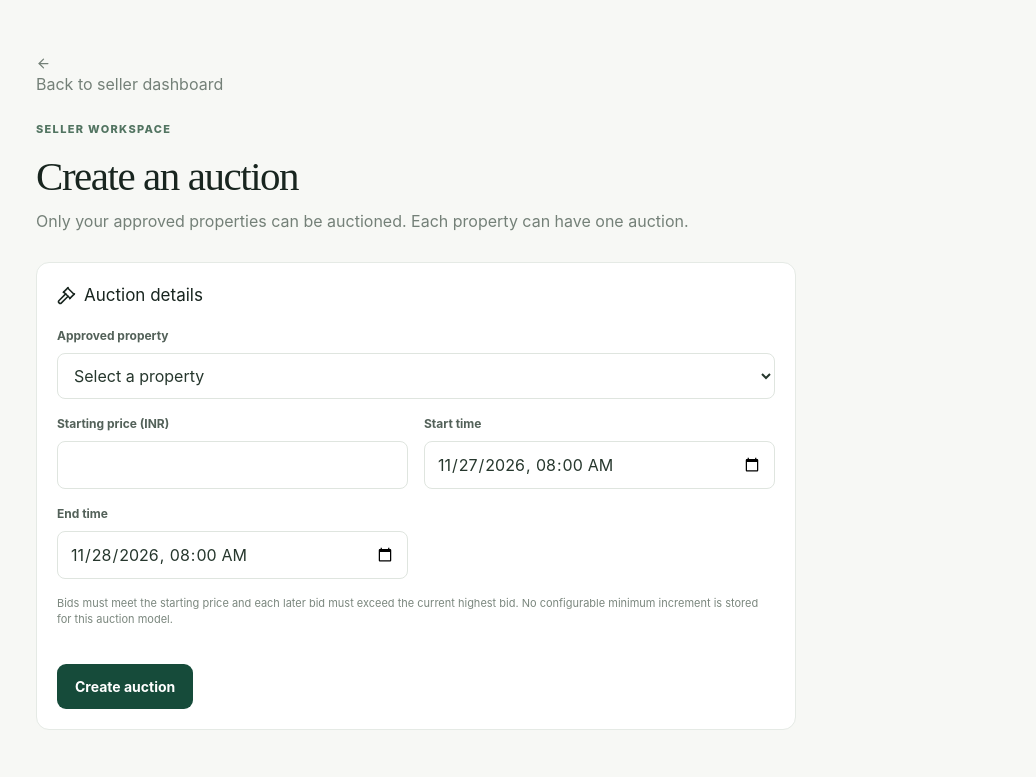
SellerAuctionPage › offers only approved seller properties and creates an auction through the API
Select "Property approved-1 — Bengaluru" in the dropdown labelled "Approved property": {"x": 416, "y": 376} [57,353,775,399]
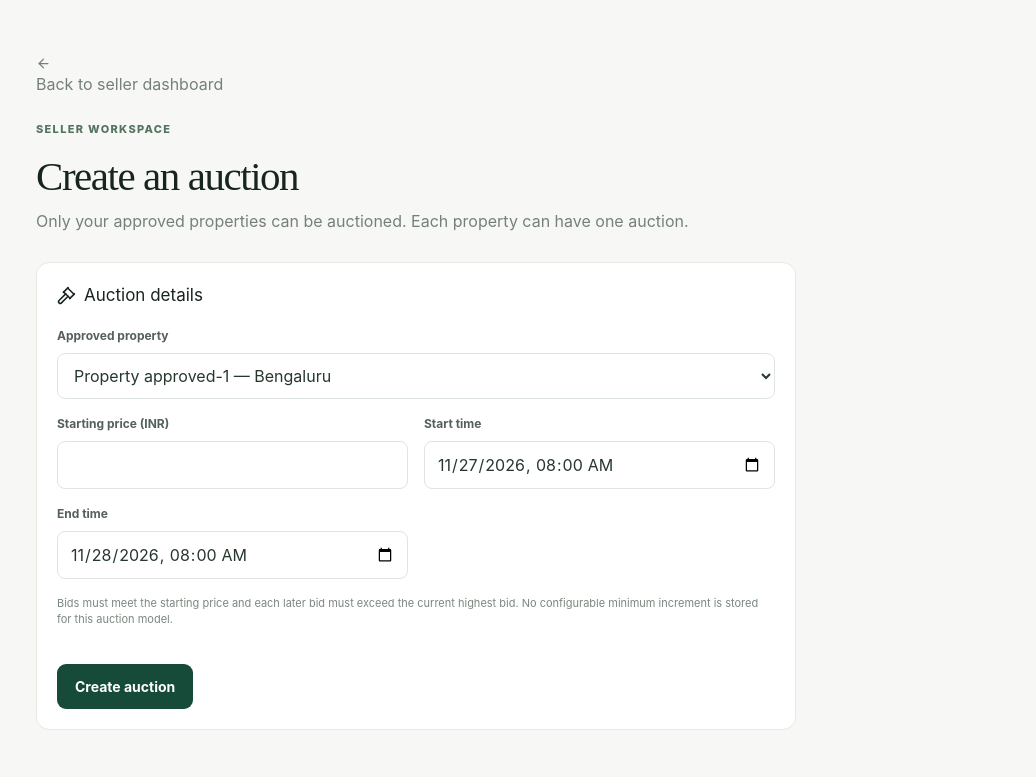
In the number field labelled "Starting price (INR)": {"x": 232, "y": 465} [57,441,408,489], type "100000"
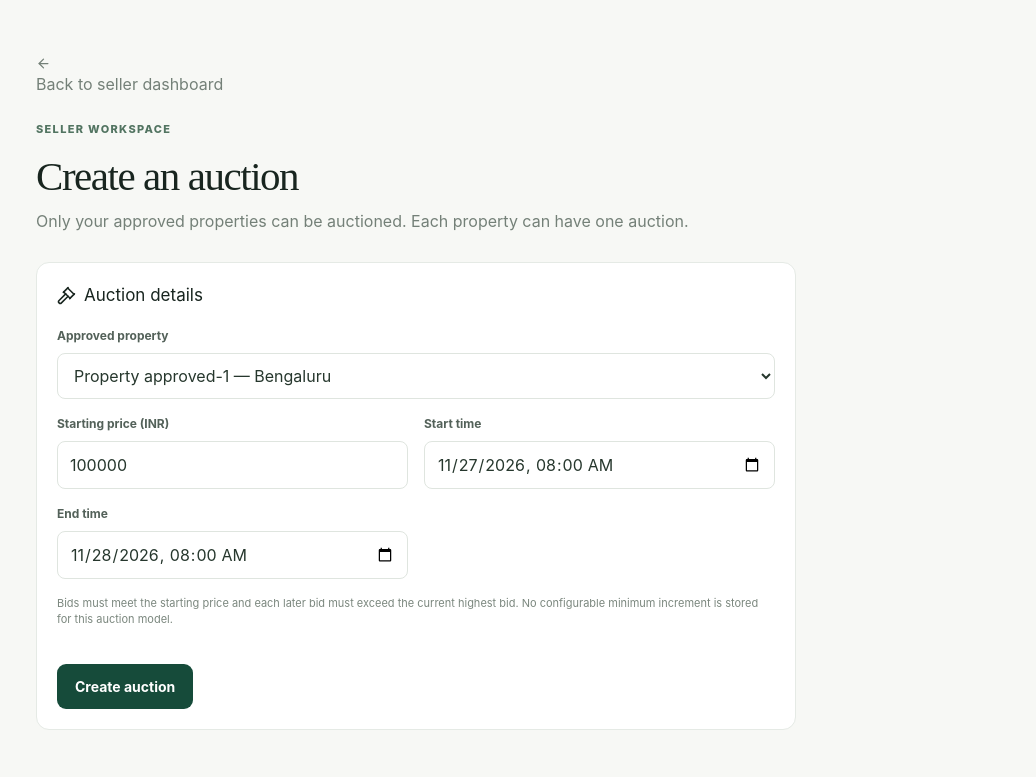
Click the button "Create auction": {"x": 125, "y": 686} [57,664,193,709]
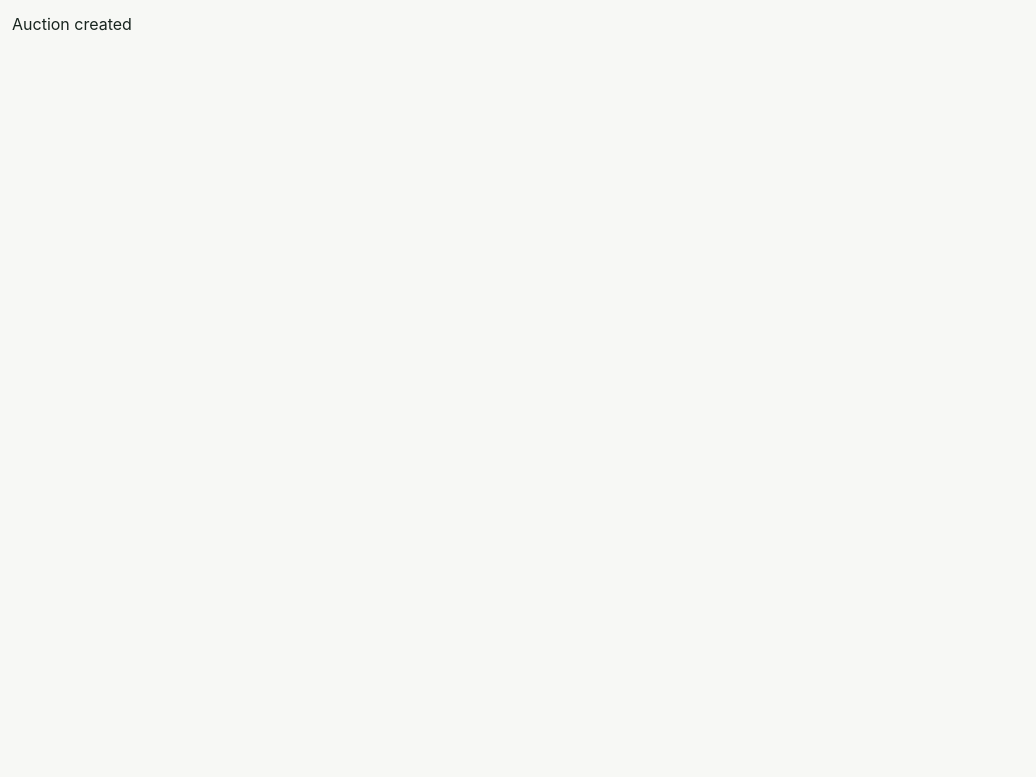
Expected: the text "Auction created" is shown, [12,14,132,34]
